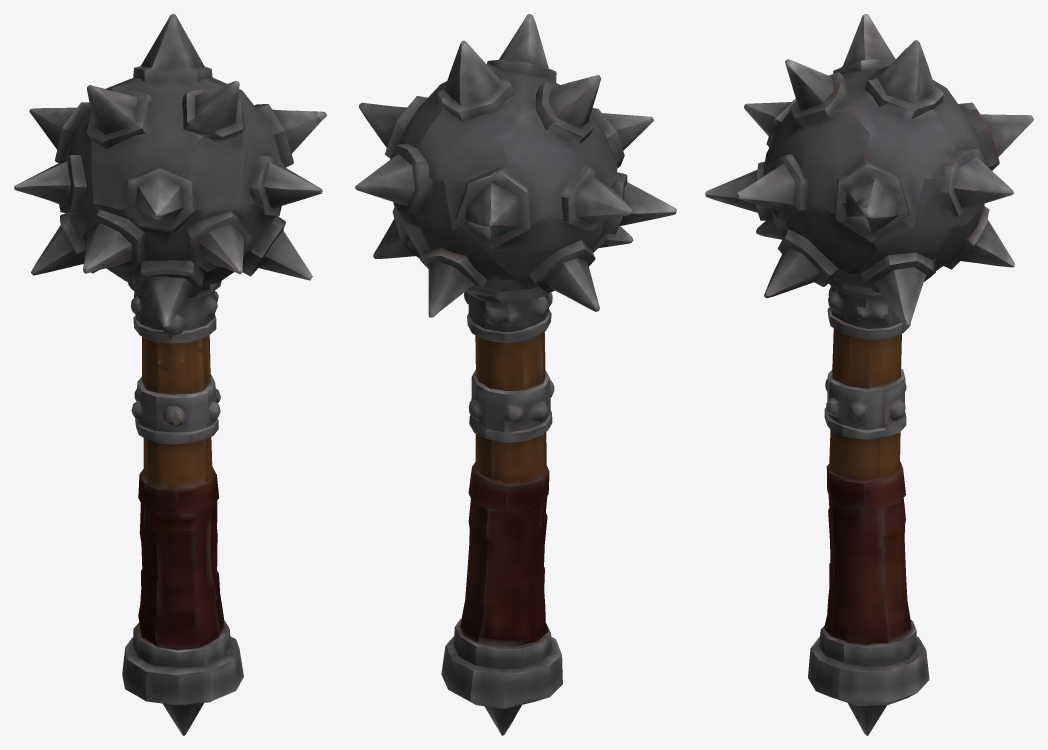
Rendered from estrela.glb.
The picture shows the model from 3 angles, left to right: view 1: azimuth 30°, elevation 25°; view 2: azimuth 150°, elevation 25°; view 3: azimuth 270°, elevation 25°; orthographic projection.
Visible parts, largest first — view 1: world; view 2: world; view 3: world.
Part boxes in pixels (<box>): world: <box>14,14,326,735</box>; world: <box>355,14,676,735</box>; world: <box>705,14,1033,735</box>.
Bounding box in the file's own units: 0.4114 × 0.95 × 0.403.
1 material, 1 textured.
